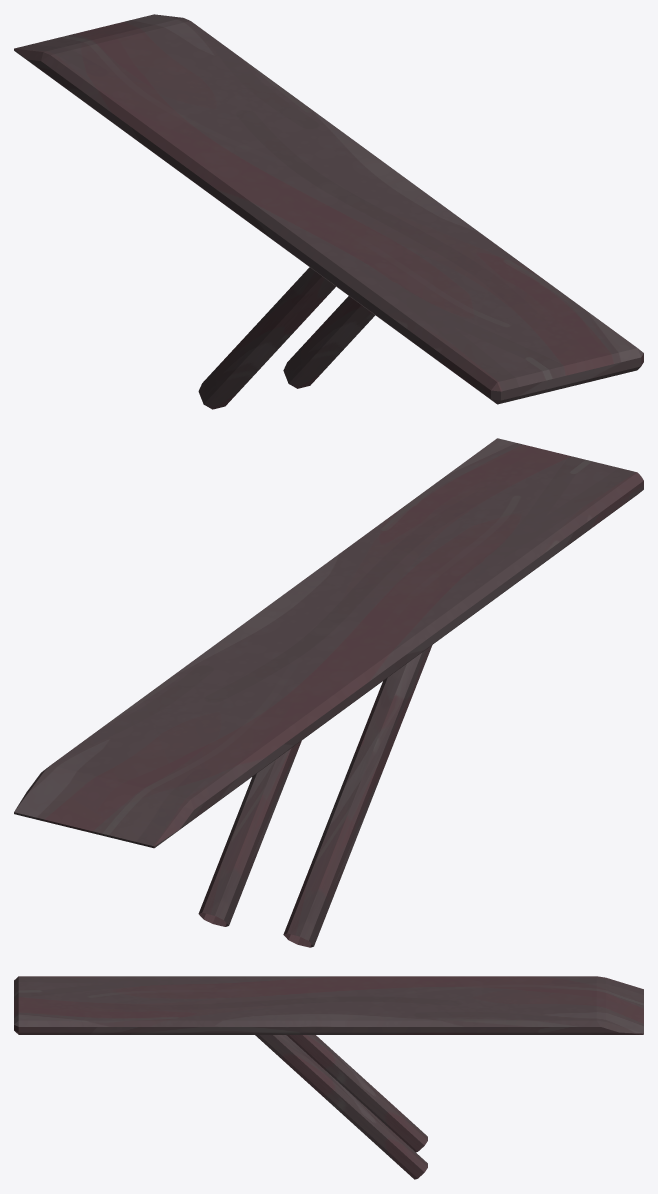
Rendered from Gliding_Board.fbx.
3 renders of one model, top to bottom at view 1: azimuth 30°, elevation 25°; view 2: azimuth 150°, elevation 25°; view 3: azimuth 270°, elevation 25°, orthographic. The views are drawn at different scales.
Parts seen in each view (by area): view 1: gliding board; view 2: gliding board; view 3: gliding board.
Part boxes in pixels (<box>): gliding board: <box>14,14,643,409</box>; gliding board: <box>14,438,643,947</box>; gliding board: <box>14,976,643,1179</box>.
Bounding box in the file's own units: 90.1 × 144 × 497.
